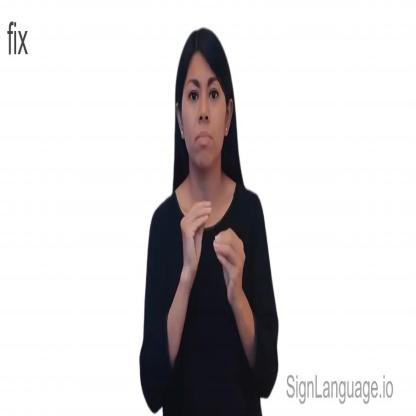Fix: (141, 23, 278, 414)
